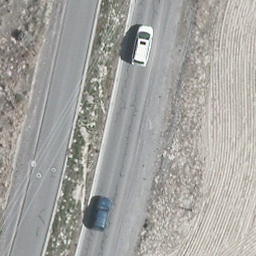car: (134, 24, 155, 68), (91, 198, 115, 236)
